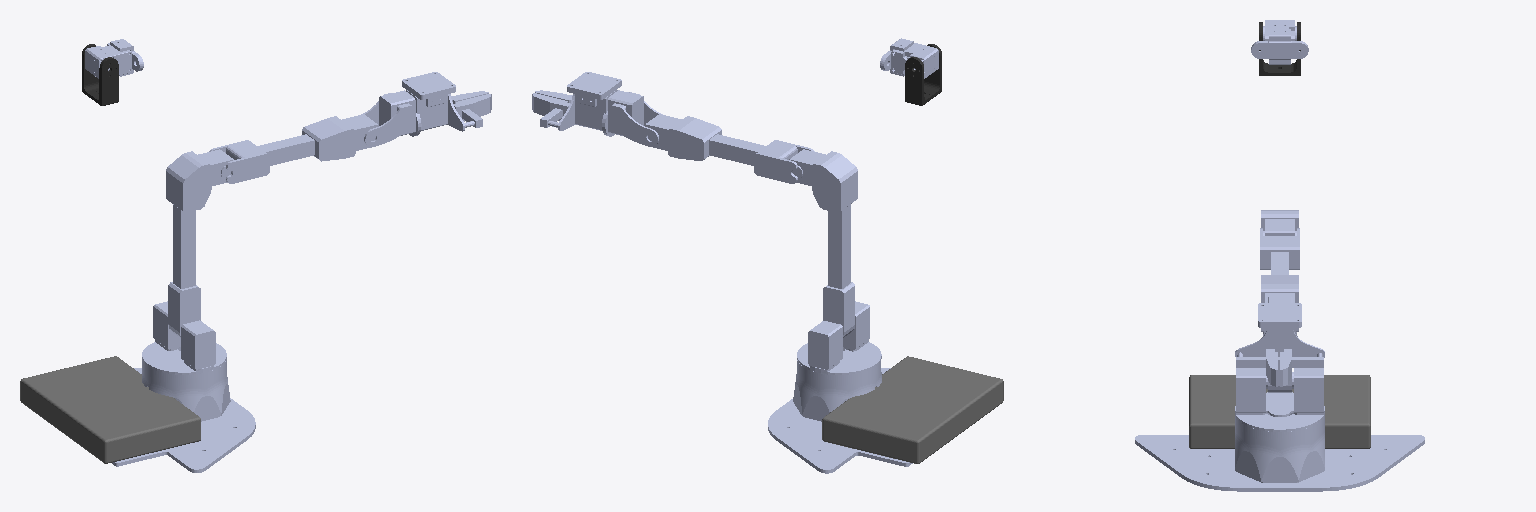
--- Render facts (derived) ---
3 views of the same robot in one strip: view 1: azimuth 30°, elevation 25°; view 2: azimuth 150°, elevation 25°; view 3: azimuth 270°, elevation 25° (orthographic).
Model locobot with 26 links and 25 joints (7 revolute, 2 continuous, 2 prismatic, 14 fixed), rooted at base_footprint, posed every joint at zero.
Links seen in each view (by area): view 1: battery_link, elbow_link, forearm_link, shoulder_link, plate_2, arm_base_link, wrist_link, gripper_link, head_pan_link, head_tilt_link, ar_tag, finger_r; view 2: battery_link, elbow_link, forearm_link, shoulder_link, plate_2, arm_base_link, wrist_link, gripper_link, head_pan_link, head_tilt_link, ar_tag, finger_l; view 3: plate_2, battery_link, shoulder_link, arm_base_link, forearm_link, gripper_link, head_tilt_link, elbow_link, ar_tag, head_pan_link.
Link boxes in pixels (x1,y1,x2,y2): battery_link: [20, 356, 200, 463]; elbow_link: [166, 149, 233, 337]; forearm_link: [209, 114, 378, 183]; shoulder_link: [142, 301, 226, 374]; plate_2: [112, 368, 255, 472]; arm_base_link: [142, 359, 230, 421]; wrist_link: [361, 90, 415, 146]; gripper_link: [406, 90, 482, 136]; head_pan_link: [82, 44, 118, 105]; head_tilt_link: [85, 39, 143, 78]; ar_tag: [402, 72, 455, 106]; finger_r: [453, 94, 491, 121]; battery_link: [822, 356, 1003, 463]; elbow_link: [789, 149, 857, 337]; forearm_link: [644, 114, 814, 183]; shoulder_link: [797, 301, 881, 374]; plate_2: [768, 368, 912, 473]; arm_base_link: [793, 360, 881, 421]; wrist_link: [608, 90, 662, 146]; gripper_link: [540, 90, 617, 136]; head_pan_link: [905, 44, 941, 105]; head_tilt_link: [880, 38, 938, 78]; ar_tag: [567, 72, 621, 106]; finger_l: [532, 93, 569, 120]; plate_2: [1135, 435, 1424, 491]; battery_link: [1189, 375, 1370, 448]; shoulder_link: [1235, 368, 1324, 431]; arm_base_link: [1235, 413, 1324, 482]; forearm_link: [1260, 228, 1299, 302]; gripper_link: [1235, 328, 1324, 367]; head_tilt_link: [1251, 20, 1308, 64]; elbow_link: [1261, 210, 1298, 392]; ar_tag: [1258, 303, 1301, 334]; head_pan_link: [1259, 22, 1300, 75].
Bounding box of the posed robot: 0.594 × 0.33 × 0.5069 m (x, y, z).
13 mesh visuals loaded from 18 distinct referenced files (13 binary STL); not drawn: 3 (reference not matched to a file when rendering), 3 (file found but could not be loaded).

robot.urdf — locobot:
<?xml version="1.0" ?>
<robot name="locobot">
    <!-- Kobuki -->
    <link name="base_footprint"/>
    <!--
       Base link is set at the bottom of the base mould.
       This is done to be compatible with the way base link
       was configured for turtlebot 1. Refer to

       https://github.com/turtlebot/turtlebot/issues/40

       To put the base link at the more oft used wheel
       axis, set the z-distance from the base_footprint
       to 0.352.
      -->
    <joint name="base_joint" type="fixed">
        <origin rpy="0 0 0" xyz="0 0 0.0102"/>
        <parent link="base_footprint"/>
        <child link="base_link"/>
    </joint>
    <link name="base_link">
        <visual>
            <geometry>
                <!-- new mesh -->
                <mesh filename="package://locobot_description/meshes/main_body.dae"/>
            </geometry>
            <origin rpy="0 0 0" xyz="0.001 0 0.05199"/>
        </visual>
        <collision name="base">
            <geometry>
                <cylinder length="0.10938" radius="0.178"/>
            </geometry>
            <origin rpy="0 0 0" xyz="0.0 0 0.05949"/>
        </collision>
        <inertial>
            <!-- COM experimentally determined -->
            <origin xyz="0.01 0 0"/>
            <mass value="2.4"/>
            <!-- 2.4/2.6 kg for small/big battery pack -->
            <!-- Kobuki's inertia tensor is approximated by a cylinder with homogeneous mass distribution
             More details: http://en.wikipedia.org/wiki/List_of_moment_of_inertia_tensors
             m = 2.4 kg; h = 0.09 m; r = 0.175 m
             ixx = 1/12 * m * (3 * r^2 + h^2)
             iyy = 1/12 * m * (3 * r^2 + h^2)
             izz = 1/2 * m * r^2
          -->
            <inertia ixx="0.019995" ixy="0.0" ixz="0.0" iyy="0.019995" iyz="0.0" izz="0.03675"/>
        </inertial>
    </link>
    <joint name="wheel_left_joint" type="continuous">
        <parent link="base_link"/>
        <child link="wheel_left_link"/>
        <origin rpy="-1.57079632679 0 0" xyz="0.00 0.115 0.0250"/>
        <axis xyz="0 0 1"/>
    </joint>
    <link name="wheel_left_link">
        <visual>
            <geometry>
                <mesh filename="package://locobot_description/meshes/wheel.dae"/>
            </geometry>
            <origin rpy="0 0 0" xyz="0 0 0"/>
        </visual>
        <collision>
            <geometry>
                <cylinder length="0.0206" radius="0.0352"/>
            </geometry>
            <origin rpy="0 0 0" xyz="0 0 0"/>
        </collision>
        <inertial>
            <mass value="0.01"/>
            <origin xyz="0 0 0"/>
            <inertia ixx="0.001" ixy="0.0" ixz="0.0" iyy="0.001" iyz="0.0" izz="0.001"/>
        </inertial>
    </link>
    <joint name="wheel_right_joint" type="continuous">
        <parent link="base_link"/>
        <child link="wheel_right_link"/>
        <origin rpy="-1.57079632679 0 0" xyz="0.00 -0.115 0.0250"/>
        <axis xyz="0 0 1"/>
    </joint>
    <link name="wheel_right_link">
        <visual>
            <geometry>
                <mesh filename="package://locobot_description/meshes/wheel.dae"/>
            </geometry>
            <origin rpy="0 0 0" xyz="0 0 0"/>
        </visual>
        <collision>
            <geometry>
                <cylinder length="0.0206" radius="0.0350"/>
            </geometry>
            <origin rpy="0 0 0" xyz="0 0 0"/>
        </collision>
        <inertial>
            <mass value="0.01"/>
            <origin xyz="0 0 0"/>
            <inertia ixx="0.001" ixy="0.0" ixz="0.0" iyy="0.001" iyz="0.0" izz="0.001"/>
        </inertial>
    </link>
    <joint name="caster_front_joint" type="fixed">
        <parent link="base_link"/>
        <child link="caster_front_link"/>
        <origin rpy="-1.57079632679 0 0" xyz="0.115 0.0 0.007"/>
    </joint>
    <link name="caster_front_link">
        <collision>
            <geometry>
                <cylinder length="0.0176" radius="0.017"/>
            </geometry>
            <origin rpy="0 0 0" xyz="0 0 0"/>
        </collision>
        <inertial>
            <mass value="0.01"/>
            <origin xyz="0 0 0"/>
            <inertia ixx="0.001" ixy="0.0" ixz="0.0" iyy="0.001" iyz="0.0" izz="0.001"/>
        </inertial>
    </link>
    <joint name="caster_back_joint" type="fixed">
        <parent link="base_link"/>
        <child link="caster_back_link"/>
        <origin rpy="-1.57079632679 0 0" xyz="-0.135 0.0 0.009"/>
    </joint>
    <link name="caster_back_link">
        <collision>
            <geometry>
                <cylinder length="0.0176" radius="0.017"/>
            </geometry>
            <origin rpy="0 0 0" xyz="0 0 0"/>
        </collision>
        <inertial>
            <mass value="0.01"/>
            <origin xyz="0 0 0"/>
            <inertia ixx="0.001" ixy="0.0" ixz="0.0" iyy="0.001" iyz="0.0" izz="0.001"/>
        </inertial>
    </link>
    <!-- Kobuki's sensors -->
    <joint name="gyro_joint" type="fixed">
        <axis xyz="0 1 0"/>
        <origin rpy="0 0 0" xyz="0.056 0.062 0.0202"/>
        <parent link="base_link"/>
        <child link="gyro_link"/>
    </joint>
    <link name="gyro_link">
        <inertial>
            <mass value="0.001"/>
            <origin rpy="0 0 0" xyz="0 0 0"/>
            <inertia ixx="0.0001" ixy="0" ixz="0" iyy="0.000001" iyz="0" izz="0.0001"/>
        </inertial>
    </link>
    <joint name="cliff_sensor_left_joint" type="fixed">
        <origin rpy="0 1.57079632679 0" xyz="0.08734 0.13601 0.0214"/>
        <parent link="base_link"/>
        <child link="cliff_sensor_left_link"/>
    </joint>
    <link name="cliff_sensor_left_link">
        <inertial>
            <mass value="0.0001"/>
            <origin xyz="0 0 0"/>
            <inertia ixx="0.0001" ixy="0.0" ixz="0.0" iyy="0.0001" iyz="0.0" izz="0.0001"/>
        </inertial>
    </link>
    <joint name="cliff_sensor_right_joint" type="fixed">
        <origin rpy="0 1.57079632679 0" xyz="0.085 -0.13601 0.0214"/>
        <parent link="base_link"/>
        <child link="cliff_sensor_right_link"/>
    </joint>
    <link name="cliff_sensor_right_link">
        <inertial>
            <mass value="0.0001"/>
            <origin xyz="0 0 0"/>
            <inertia ixx="0.0001" ixy="0.0" ixz="0.0" iyy="0.0001" iyz="0.0" izz="0.0001"/>
        </inertial>
    </link>
    <joint name="cliff_sensor_front_joint" type="fixed">
        <origin rpy="0 1.57079632679 0" xyz="0.156 0.00 0.0214"/>
        <parent link="base_link"/>
        <child link="cliff_sensor_front_link"/>
    </joint>
    <link name="cliff_sensor_front_link">
        <inertial>
            <mass value="0.0001"/>
            <origin xyz="0 0 0"/>
            <inertia ixx="0.0001" ixy="0.0" ixz="0.0" iyy="0.0001" iyz="0.0" izz="0.0001"/>
        </inertial>
    </link>
    <!-- plates  -->
    <link name="plate_1">
        <inertial>
            <origin rpy="3.14159265359 0 1.57079632679" xyz="-0.0503576000 -0.0000435988 0.002375"/>
            <!-- <mass value="1"/> -->
            <mass value="0.27854"/>
            <inertia ixx="0.0008919000" ixy="0.0000000000" ixz="0.0000000000" iyy="0.0015520000" iyz="-0.0000000018" izz="0.0024420000"/>
        </inertial>
        <visual>
            <origin rpy="3.14159265359 0 1.57079632679" xyz="-0.0973 0 0.002375"/>
            <geometry>
                <mesh filename="package://locobot_description/meshes/plate_bottom.STL" scale="0.001 0.001 0.001"/>
            </geometry>
            <material name="">
                <color rgba="0.792156862745098 0.819607843137255 0.933333333333333 1"/>
            </material>
        </visual>
        <collision>
            <origin rpy="3.14159265359 0 1.57079632679" xyz="-0.0973 0 0.002375"/>
            <geometry>
                <mesh filename="package://locobot_description/meshes/plate_bottom.STL" scale="0.001 0.001 0.001"/>
            </geometry>
        </collision>
    </link>
    <joint name="plate_1_joint" type="fixed">
        <origin rpy="0 0 0" xyz="0.0973 0 0.0902375"/>
        <parent link="base_link"/>
        <child link="plate_1"/>
        <axis xyz="0 0 0"/>
    </joint>
    <link name="plate_2">
        <inertial>
            <origin rpy="3.14159265359 0 1.57079632679" xyz="-0.0503576000 -0.0000435988 0.002375"/>
            <!-- <mass value="1"/> -->
            <mass value="0.27854"/>
            <inertia ixx="0.0008919000" ixy="0.0000000000" ixz="0.0000000000" iyy="0.0015520000" iyz="-0.0000000018" izz="0.0024420000"/>
        </inertial>
        <visual>
            <origin rpy="3.14159265359 0 1.57079632679" xyz="-0.0973 0 0.002375"/>
            <geometry>
                <mesh filename="package://locobot_description/meshes/plate_top.STL" scale="0.001 0.001 0.001"/>
            </geometry>
            <material name="">
                <color rgba="0.792156862745098 0.819607843137255 0.933333333333333 1"/>
            </material>
        </visual>
        <collision>
            <origin rpy="3.14159265359 0 1.57079632679" xyz="-0.0973 0 0.002375"/>
            <geometry>
                <mesh filename="package://locobot_description/meshes/plate_top.STL" scale="0.001 0.001 0.001"/>
            </geometry>
        </collision>
    </link>
    <joint name="plate_2_joint" type="fixed">
        <origin rpy="0 0 0" xyz="0 0 0.00475"/>
        <parent link="plate_1"/>
        <child link="plate_2"/>
        <axis xyz="0 0 0"/>
    </joint>

    <!-- ********************************** Battery **********************************  -->
    <link name="battery_link">
        <visual>
            <origin rpy="0 0 1.57079632679" xyz="0 -0.02176730 0"/>
            <geometry>
                <mesh filename="package://locobot_description/meshes/battery.STL" scale="0.001 0.001 0.001"/>
            </geometry>
            <material name="">
                <color rgba="0.5 0.5 0.5 1"/>
            </material>
        </visual>
        <collision>
            <origin rpy="0 0 1.57079632679" xyz="0 -0.02176730 0"/>
            <geometry>
                <mesh filename="package://locobot_description/meshes/battery.STL" scale="0.001 0.001 0.001"/>
            </geometry>
        </collision>
        <inertial>
            <origin rpy="0 0 1.57079632679" xyz="-0.0071373100 -0.0000436401 0.0111375000"/>
            <!-- <mass value="1"/> -->
            <mass value="1.194"/>
            <inertia ixx="0.0019080000" ixy="0.0000000000" ixz="0.0000000000" iyy="0.0043120000" iyz="0.0000000000" izz="0.0060170000"/>
        </inertial>
    </link>
    <joint name="battery_link_joint" type="fixed">
        <origin rpy="0 0 0" xyz="-0.09703321 0 0.005375"/>
        <parent link="plate_2"/>
        <child link="battery_link"/>
        <axis xyz="0 0 0"/>
    </joint>
    <!-- ********************************** End Battery **********************************  -->

    <!-- add arm -->
     <link name="arm_base_link">
        <inertial>
            <origin rpy="1.57079632679 0 1.57079632679" xyz="-0.0001350000 -0.0000266286 0.0338755000"/>
            <!-- <mass value="1"/> -->
            <mass value="0.379673" />
            <inertia ixx="0.0004351000" iyy="0.0004452000" izz="0.0005731000" ixy="0.0000000707" ixz="0.0000000266" iyz="-0.0000022881" />
        </inertial>
        <visual>
            <origin rpy="1.57079632679 0 1.57079632679" xyz="-0.095773 0 -0.10565023"/>
            <geometry>
                <mesh filename="package://locobot_description/meshes/mobile_base.STL" scale="0.001 0.001 0.001"/>
            </geometry>
            <material name="">
                <color rgba="0.792156862745098 0.819607843137255 0.933333333333333 1"/>
            </material>
        </visual>
        <collision>
            <origin rpy="1.57079632679 0 1.57079632679" xyz="-0.095773 0 -0.10565023"/>
            <geometry>
                <mesh filename="package://locobot_description/meshes/mobile_base.STL" scale="0.001 0.001 0.001"/>
            </geometry>
        </collision>
    </link>
    <joint name="arm_base_link_joint" type="fixed">
        <origin rpy="0 0 0" xyz="0 0 0.002375"/>
        <parent link="plate_2"/>
        <child link="arm_base_link"/>
        <axis xyz="0 0 0"/>
    </joint>
    <link name="shoulder_link">
        <inertial>
            <origin rpy="0 0 0" xyz="-5.67968980068612E-05 1.09785478984274E-10 0.0228467386735302"/>
            <mass value="0.119861197293521"/>
            <inertia ixx="0.000161288180462291" ixy="7.59806211309873E-14" ixz="-1.45323090659527E-07" iyy="5.49696562437107E-05" iyz="1.81052501311883E-13" izz="0.000150800672543169"/>
        </inertial>
        <visual>
            <origin rpy="0 0 0" xyz="0 0 0"/>
            <geometry>
                <mesh filename="package://locobot_description/meshes/shoulder_link.STL"/>
            </geometry>
            <material name="">
                <color rgba="0.792156862745098 0.819607843137255 0.933333333333333 1"/>
            </material>
        </visual>
        <collision>
            <origin rpy="0 0 0" xyz="0 0 0"/>
            <geometry>
                <mesh filename="package://locobot_description/meshes/shoulder_link.STL"/>
            </geometry>
        </collision>
    </link>
    <joint name="joint_1" type="revolute">
        <origin rpy="0 0 0" xyz="0 0 0.0655"/>
        <parent link="arm_base_link"/>
        <child link="shoulder_link"/>
        <axis xyz="0 0 1"/>
        <limit effort="10" lower="-1.57" upper="1.57" velocity="1"/>
    </joint>
    <link name="elbow_link">
        <inertial>
            <origin rpy="0 0 0" xyz="0.00959755948481227 -2.30930057287648E-10 0.134296795349987"/>
            <mass value="0.212482745791037"/>
            <inertia ixx="0.0011748973771367" ixy="-4.7094567420817E-13" ixz="-0.000132188939134774" iyy="0.00122350302249847" iyz="-5.48932537472287E-12" izz="9.02202689343621E-05"/>
        </inertial>
        <visual>
            <origin rpy="0 0 0" xyz="0 0 0"/>
            <geometry>
                <mesh filename="package://locobot_description/meshes/elbow_link.STL"/>
            </geometry>
            <material name="">
                <color rgba="0.792156862745098 0.819607843137255 0.933333333333333 1"/>
            </material>
        </visual>
        <collision>
            <origin rpy="0 0 0" xyz="0 0 0"/>
            <geometry>
                <mesh filename="package://locobot_description/meshes/elbow_link.STL"/>
            </geometry>
        </collision>
    </link>
    <joint name="joint_2" type="revolute">
        <origin rpy="0 0 0" xyz="0 0 0.04125"/>
        <parent link="shoulder_link"/>
        <child link="elbow_link"/>
        <axis xyz="0 1 0"/>
        <limit effort="10" lower="-1.57" upper="1.57" velocity="1"/>
    </joint>
    <link name="forearm_link">
        <inertial>
            <origin rpy="0 0 0" xyz="0.117829826272582 3.09310973110905E-15 -1.26218883678142E-08"/>
            <mass value="0.18746427435805"/>
            <inertia ixx="3.94142667601686E-05" ixy="-3.65830967659785E-19" ixz="9.25852572167442E-11" iyy="0.000725209569605637" iyz="-1.05290858715495E-18" izz="0.000737165881391993"/>
        </inertial>
        <visual>
            <origin rpy="0 0 0" xyz="0 0 0"/>
            <geometry>
                <mesh filename="package://locobot_description/meshes/forearm_link.STL"/>
            </geometry>
            <material name="">
                <color rgba="0.792156862745098 0.819607843137255 0.933333333333333 1"/>
            </material>
        </visual>
        <collision>
            <origin rpy="0 0 0" xyz="0 0 0"/>
            <geometry>
                <mesh filename="package://locobot_description/meshes/forearm_link.STL"/>
            </geometry>
        </collision>
    </link>
    <joint name="joint_3" type="revolute">
        <origin rpy="0 0 0" xyz="0.05 0 0.2"/>
        <parent link="elbow_link"/>
        <child link="forearm_link"/>
        <axis xyz="0 1 0"/>
        <limit effort="10" lower="-1.57" upper="1.57" velocity="1"/>
    </joint>
    <link name="wrist_link">
        <inertial>
            <origin rpy="0 0 0" xyz="0.0429410028407894 4.98644733821042E-05 0.0114266948023652"/>
            <mass value="0.0605921736680362"/>
            <inertia ixx="1.84998512056284E-05" ixy="-1.03256667343112E-08" ixz="-1.71865409274096E-06" iyy="2.08955068262134E-05" iyz="5.05203399787143E-09" izz="1.97857037442992E-05"/>
        </inertial>
        <visual>
            <origin rpy="0 0 0" xyz="0 0 0"/>
            <geometry>
                <mesh filename="package://locobot_description/meshes/wrist_link.STL"/>
            </geometry>
            <material name="">
                <color rgba="0.792156862745098 0.819607843137255 0.933333333333333 1"/>
            </material>
        </visual>
        <collision>
            <origin rpy="0 0 0" xyz="0 0 0"/>
            <geometry>
                <mesh filename="package://locobot_description/meshes/wrist_link.STL"/>
            </geometry>
        </collision>
    </link>
    <joint name="joint_4" type="revolute">
        <origin rpy="0 0 0" xyz="0.2002 0 0"/>
        <parent link="forearm_link"/>
        <child link="wrist_link"/>
        <axis xyz="0 1 0"/>
        <limit effort="1" lower="-1.57" upper="1.57" velocity="1"/>
    </joint>
    <link name="gripper_link">
        <inertial>
            <origin rpy="0 0 0" xyz="0.0311572802112565 -1.25977280754998E-05 0.0092307003092138"/>
            <mass value="0.0795745052466434"/>
            <inertia ixx="3.27413333929741E-05" ixy="3.7314060486416E-08" ixz="3.97669066588691E-06" iyy="4.47182985231326E-05" iyz="-9.49992756213297E-09" izz="5.02142570756738E-05"/>
        </inertial>
        <visual>
            <origin rpy="0 0 0" xyz="0 0 0"/>
            <geometry>
                <mesh filename="package://locobot_description/meshes/gripper_link.STL"/>
            </geometry>
            <material name="">
                <color rgba="0.792156862745098 0.819607843137255 0.933333333333333 1"/>
            </material>
        </visual>
        <collision>
            <origin rpy="0 0 0" xyz="0 0 0"/>
            <geometry>
                <mesh filename="package://locobot_description/meshes/gripper_link.STL"/>
            </geometry>
        </collision>
    </link>
    <joint name="joint_5" type="revolute">
        <origin rpy="0 0 0" xyz="0.063 0.0001 0"/>
        <parent link="wrist_link"/>
        <child link="gripper_link"/>
        <axis xyz="-1 0 0"/>
        <limit effort="1" lower="-1.57" upper="1.57" velocity="1"/>
    </joint>
    <link name="finger_r">
        <inertial>
            <origin rpy="0 0 0" xyz="0.0100191457715113 -0.00843835347348892 -0.00483280251641866"/>
            <mass value="0.0121931459003602"/>
            <inertia ixx="6.74016278931418E-07" ixy="-2.36459038775023E-07" ixz="3.1480125304693E-09" iyy="3.10966297287339E-06" iyz="1.19271018871704E-10" izz="2.77935600332309E-06"/>
        </inertial>
        <visual>
            <origin rpy="0 0 0" xyz="0 0 0"/>
            <geometry>
                <mesh filename="package://locobot_description/meshes/finger_r.STL"/>
            </geometry>
            <material name="">
                <color rgba="0.792156862745098 0.819607843137255 0.933333333333333 1"/>
            </material>
        </visual>
        <collision>
            <origin rpy="0 0 0" xyz="0 0 0"/>
            <geometry>
                <mesh filename="package://locobot_description/meshes/finger_r.STL"/>
            </geometry>
        </collision>
    </link>
    <joint name="joint_6" type="prismatic">
        <origin rpy="0 0 0" xyz="0.07285 0 0.0050143"/>
        <parent link="gripper_link"/>
        <child link="finger_r"/>
        <axis xyz="0 1 0"/>
        <limit effort="1" lower="-1" upper="0" velocity="1"/>
    </joint>
    <link name="finger_l">
        <inertial>
            <origin rpy="0 0 0" xyz="0.0100191599590265 0.00643833435729511 -0.00483280251641866"/>
            <mass value="0.0121931459003603"/>
            <inertia ixx="6.74017180959932E-07" ixy="2.3646368440071E-07" ixz="3.14801230297432E-09" iyy="3.10966207084492E-06" iyz="-1.19277023229564E-10" izz="2.77935600332313E-06"/>
        </inertial>
        <visual>
            <origin rpy="0 0 0" xyz="0 0 0"/>
            <geometry>
                <mesh filename="package://locobot_description/meshes/finger_l.STL"/>
            </geometry>
            <material name="">
                <color rgba="0.792156862745098 0.819607843137255 0.933333333333333 1"/>
            </material>
        </visual>
        <collision>
            <origin rpy="0 0 0" xyz="0 0 0"/>
            <geometry>
                <mesh filename="package://locobot_description/meshes/finger_l.STL"/>
            </geometry>
        </collision>
    </link>
    <joint name="joint_7" type="prismatic">
        <origin rpy="0 0 0" xyz="0.07285 0 0.0050143"/>
        <parent link="gripper_link"/>
        <child link="finger_l"/>
        <axis xyz="0 1 0"/>
        <limit effort="1" lower="0" upper="1" velocity="1"/>
    </joint>
    <link name="ar_tag">
        <inertial>
            <origin rpy="0 0 0" xyz="-1.59182528269852E-09 1.70641183422241E-09 -0.00509579048106218"/>
            <mass value="0.0202622634619862"/>
            <inertia ixx="4.71058333074219E-06" ixy="3.03778067070489E-12" ixz="6.65421687578365E-13" iyy="4.05773489073818E-06" iyz="1.37033485576347E-13" izz="7.92378853658606E-06"/>
        </inertial>
        <visual>
            <origin rpy="0 0 0" xyz="0 0 0"/>
            <geometry>
                <mesh filename="package://locobot_description/meshes/ar_tag.STL"/>
            </geometry>
            <material name="">
                <color rgba="0.792156862745098 0.819607843137255 0.933333333333333 1"/>
            </material>
        </visual>
        <collision>
            <origin rpy="0 0 0" xyz="0 0 0"/>
            <geometry>
                <mesh filename="package://locobot_description/meshes/ar_tag.STL"/>
            </geometry>
        </collision>
    </link>
    <joint name="ar_tag_joint" type="fixed">
        <origin rpy="0 0 0" xyz="0.0269499999999999 0 0.04315"/>
        <parent link="gripper_link"/>
        <child link="ar_tag"/>
        <axis xyz="0 0 0"/>
    </joint>
    <!-- need to add camera assembly -->
    <link name="cam_mount">
        <inertial>
            <origin rpy="0 0 1.57079632679" xyz="-0.0053535000 -0.0030566200 0.1091990000"/>
            <!-- <mass value="1"/> -->
            <mass value="2.091937"/>
            <inertia ixx="0.0376600000" ixy="-0.0001113000" ixz="-0.0004178000" iyy="0.0440300000" iyz="0.0001531000" izz="0.0116800000"/>
        </inertial>
        <visual>
            <origin rpy="1.57079632679 0 1.57079632679" xyz="0.03751 0 -0.146150"/>
            <geometry>
                <mesh filename="package://locobot_description/meshes/interbotix_cam_mount.STL" scale="0.001 0.001 0.001"/>
            </geometry>
            <material name="">
                <color rgba="0.792156862745098 0.819607843137255 0.933333333333333 1"/>
            </material>
        </visual>
        <collision>
            <origin rpy="1.57079632679 0 1.57079632679" xyz="0.03751 0 -0.146150"/>
            <geometry>
                <mesh filename="package://locobot_description/meshes/interbotix_cam_mount.STL" scale="0.001 0.001 0.001"/>
            </geometry>
        </collision>
    </link>
    <joint name="cam_mount_joint" type="fixed">
        <origin rpy="0 0 0" xyz="-0.03751 0 0.13775"/>
        <parent link="base_link"/>
        <child link="cam_mount"/>
        <axis xyz="0 0 0"/>
    </joint>
    <link name="head_pan_link">
        <inertial>
            <origin rpy="0 0 0" xyz="-1.35308431126191E-16 -2.97071395261028E-17 0.0220876265081744"/>
            <mass value="0.0182769203076134"/>
            <inertia ixx="1.32243845065555E-05" ixy="5.07660179129181E-13" ixz="1.067515220067E-20" iyy="7.13386116649085E-06" iyz="-1.32882457845217E-20" izz="7.83291781352837E-06"/>
        </inertial>
        <visual>
            <origin rpy="0 0 0" xyz="0 0 0"/>
            <geometry>
                <mesh filename="package://locobot_description/meshes/tilt_link.STL"/>
            </geometry>
            <material name="">
                <color rgba="0.250980392156863 0.250980392156863 0.250980392156863 1"/>
            </material>
        </visual>
        <collision>
            <origin rpy="0 0 0" xyz="0 0 0"/>
            <geometry>
                <mesh filename="package://locobot_description/meshes/tilt_link.STL"/>
            </geometry>
        </collision>
    </link>
    <joint name="head_pan_joint" type="revolute">
        <origin rpy="0 0 0" xyz="0.01755 -0.00008 0.3975"/>
        <parent link="cam_mount"/>
        <child link="head_pan_link"/>
        <axis xyz="0 0 1"/>
        <limit effort="1" lower="-1.57" upper="1.57" velocity="1"/>
    </joint>
    <link name="head_tilt_link">
        <inertial>
            <origin rpy="0 0 0" xyz="0.0168744200088311 -0.000442984145897884 -0.00405256422002387"/>
            <mass value="0.0547677687275323"/>
            <inertia ixx="1.07071738005716E-05" ixy="-1.46854788384565E-07" ixz="5.59529059364376E-08" iyy="1.77011620295824E-05" iyz="1.27587154712834E-09" izz="2.01583693170578E-05"/>
        </inertial>
        <visual>
            <origin rpy="0 0 0" xyz="0 0 0"/>
            <geometry>
                <mesh filename="package://locobot_description/meshes/roll_link.STL"/>
            </geometry>
            <material name="">
                <color rgba="0.792156862745098 0.819607843137255 0.933333333333333 1"/>
            </material>
        </visual>
        <collision>
            <origin rpy="0 0 0" xyz="0 0 0"/>
            <geometry>
                <mesh filename="package://locobot_description/meshes/roll_link.STL"/>
            </geometry>
        </collision>
    </link>
    <joint name="head_tilt_joint" type="revolute">
        <origin rpy="0 0 0" xyz="0 0 0.05"/>
        <parent link="head_pan_link"/>
        <child link="head_tilt_link"/>
        <axis xyz="0 1 0"/>
        <limit effort="1" lower="-1.57" upper="1.57" velocity="1"/>
    </joint>
    <link name="camera_link">
        <inertial>
            <origin rpy="0 0 0" xyz="-0.0132722976093535 0.00168171470080143 2.49829664994428E-06"/>
            <mass value="0.0381925651163644"/>
            <inertia ixx="2.4688255642946E-05" ixy="1.60697655569215E-07" ixz="1.2993241737711E-08" iyy="3.66669176935806E-06" iyz="1.30215657011203E-08" izz="2.48602467766615E-05"/>
        </inertial>
        <visual>
            <origin rpy="0 0 0" xyz="0 0 0"/>
            <geometry>
                <mesh filename="package://locobot_description/meshes/camera_link.STL"/>
            </geometry>
            <material name="">
                <color rgba="0.792156862745098 0.819607843137255 0.933333333333333 1"/>
            </material>
        </visual>
        <collision>
            <origin rpy="0 0 0" xyz="0 0 0"/>
            <geometry>
                <mesh filename="package://locobot_description/meshes/camera_link.STL"/>
            </geometry>
        </collision>
    </link>
    <joint name="camera_joint" type="fixed">
        <origin rpy="0 0 0" xyz="0.06705 0 -0.00425"/>
        <parent link="head_tilt_link"/>
        <child link="camera_link"/>
        <axis xyz="0 0 0"/>
    </joint>
    <!-- Gazebo Plugins -->
    <gazebo>
        <plugin filename="libgazebo_ros_control.so" name="gazebo_ros_control">
            <robotNamespace>/</robotNamespace>
            <legacyModeNS>true</legacyModeNS>
        </plugin>
    </gazebo>
    <!-- Camera joints -->
    <transmission name="tran_head_tilt">
        <type>transmission_interface/SimpleTransmission</type>
        <joint name="head_tilt_joint">
            <hardwareInterface>hardware_interface/EffortJointInterface</hardwareInterface>
        </joint>
        <actuator name="head_tilt_motor">
            <mechanicalReduction>1</mechanicalReduction>
        </actuator>
    </transmission>
    <transmission name="tran_head_pan">
        <type>transmission_interface/SimpleTransmission</type>
        <joint name="head_pan_joint">
            <hardwareInterface>hardware_interface/EffortJointInterface</hardwareInterface>
        </joint>
        <actuator name="head_pan_motor">
            <mechanicalReduction>1</mechanicalReduction>
        </actuator>
    </transmission>
    <!-- Arm joints -->
    <transmission name="tran_1">
        <type>transmission_interface/SimpleTransmission</type>
        <joint name="joint_1">
            <hardwareInterface>hardware_interface/EffortJointInterface</hardwareInterface>
        </joint>
        <actuator name="motor_1">
            <mechanicalReduction>1</mechanicalReduction>
        </actuator>
    </transmission>
    <transmission name="tran_2">
        <type>transmission_interface/SimpleTransmission</type>
        <joint name="joint_2">
            <hardwareInterface>hardware_interface/EffortJointInterface</hardwareInterface>
        </joint>
        <actuator name="motor_2">
            <mechanicalReduction>1</mechanicalReduction>
        </actuator>
    </transmission>
    <transmission name="tran_3">
        <type>transmission_interface/SimpleTransmission</type>
        <joint name="joint_3">
            <hardwareInterface>hardware_interface/EffortJointInterface</hardwareInterface>
        </joint>
        <actuator name="motor_3">
            <mechanicalReduction>1</mechanicalReduction>
        </actuator>
    </transmission>
    <transmission name="tran_4">
        <type>transmission_interface/SimpleTransmission</type>
        <joint name="joint_4">
            <hardwareInterface>hardware_interface/EffortJointInterface</hardwareInterface>
        </joint>
        <actuator name="motor_4">
            <mechanicalReduction>1</mechanicalReduction>
        </actuator>
    </transmission>
    <transmission name="tran_5">
        <type>transmission_interface/SimpleTransmission</type>
        <joint name="joint_5">
            <hardwareInterface>hardware_interface/EffortJointInterface</hardwareInterface>
        </joint>
        <actuator name="motor_5">
            <mechanicalReduction>1</mechanicalReduction>
        </actuator>
    </transmission>
    <transmission name="tran_6">
        <type>transmission_interface/SimpleTransmission</type>
        <joint name="joint_6">
            <hardwareInterface>hardware_interface/EffortJointInterface</hardwareInterface>
        </joint>
        <actuator name="motor_6">
            <mechanicalReduction>1</mechanicalReduction>
        </actuator>
    </transmission>
    <transmission name="tran_7">
        <type>transmission_interface/SimpleTransmission</type>
        <joint name="joint_7">
            <hardwareInterface>hardware_interface/EffortJointInterface</hardwareInterface>
        </joint>
        <actuator name="motor_7">
            <mechanicalReduction>1</mechanicalReduction>
        </actuator>
    </transmission>
    <!-- camera -->
    <gazebo reference="camera_link">
        <sensor name="camera_frame_sensor" type="depth">
            <always_on>true</always_on>
            <update_rate>30.0</update_rate>
            <camera>
                <horizontal_fov>0.994837</horizontal_fov>
                <image>
                    <format>R8G8B8</format>
                    <width>640</width>
                    <height>480</height>
                </image>
                <clip>
                    <near>0.01</near>
                    <far>10</far>
                </clip>
            </camera>
            <plugin filename="libgazebo_ros_openni_kinect.so" name="camera_frame_controller">
                <alwaysOn>true</alwaysOn>
                <updateRate>30.0</updateRate>
                <cameraName>camera</cameraName>
                <imageTopicName>color/image_raw</imageTopicName>
                <cameraInfoTopicName>color/camera_info</cameraInfoTopicName>
                <depthImageTopicName>aligned_depth_to_color/image_raw</depthImageTopicName>
                <depthImageCameraInfoTopicName>aligned_depth_to_color/camera_info</depthImageCameraInfoTopicName>
                <pointCloudTopicName>depth_registered/points</pointCloudTopicName>
                <frameName>camera_color_optical_frame</frameName>
                <pointCloudCutoff>10</pointCloudCutoff>
                <distortionK1>0.00000001</distortionK1>
                <distortionK2>0.00000001</distortionK2>
                <distortionK3>0.00000001</distortionK3>
                <distortionT1>0.00000001</distortionT1>
                <distortionT2>0.00000001</distortionT2>
                <CxPrime>0</CxPrime>
                <Cx>0</Cx>
                <Cy>0</Cy>
                <focalLength>0</focalLength>
                <hackBaseline>0</hackBaseline>
            </plugin>
        </sensor>
    </gazebo>
    <!--      <gazebo reference="cam_mount"><self_collide>true</self_collide></gazebo><self_collide>true</self_collide>-->
    <!-- Gazebo plugins for the base of the robot -->
    <!--     <gazebo><plugin name="kobuki_controller" filename="libgazebo_ros_kobuki.so"><publish_tf>1</publish_tf><left_wheel_joint_name>wheel_left_joint</left_wheel_joint_name><right_wheel_joint_name>wheel_right_joint</right_wheel_joint_name><wheel_separation>.230</wheel_separation><wheel_diameter>0.070</wheel_diameter><torque>1.0</torque><velocity_command_timeout>0.6</velocity_command_timeout><cliff_sensor_left_name>cliff_sensor_left</cliff_sensor_left_name><cliff_sensor_center_name>cliff_sensor_front</cliff_sensor_center_name><cliff_sensor_right_name>cliff_sensor_right</cliff_sensor_right_name><cliff_detection_threshold>0.04</cliff_detection_threshold><bumper_name>bumpers</bumper_name><imu_name>imu</imu_name></plugin></gazebo>-->



    <gazebo reference="wheel_left_link">
        <mu1>1.0</mu1>
        <mu2>1.0</mu2>
        <kp>1000000.0</kp>
        <kd>100.0</kd>
        <minDepth>0.001</minDepth>
        <maxVel>1.0</maxVel>
    </gazebo>
    <gazebo reference="wheel_right_link">
        <mu1>1.0</mu1>
        <mu2>1.0</mu2>
        <kp>1000000.0</kp>
        <kd>100.0</kd>
        <minDepth>0.001</minDepth>
        <maxVel>1.0</maxVel>
    </gazebo>
    <gazebo reference="caster_front_link">
        <mu1>0.0</mu1>
        <mu2>0.0</mu2>
        <kp>1000000.0</kp>
        <kd>100.0</kd>
        <minDepth>0.001</minDepth>
        <maxVel>1.0</maxVel>
    </gazebo>
   <gazebo reference="caster_back_link">
        <mu1>0.0</mu1>
        <mu2>0.0</mu2>
        <kp>1000000.0</kp>
        <kd>100.0</kd>
        <minDepth>0.001</minDepth>
        <maxVel>1.0</maxVel>
    </gazebo>


    <gazebo reference="cliff_sensor_left_link">
        <sensor name="cliff_sensor_left" type="ray">
            <always_on>true</always_on>
            <update_rate>50</update_rate>
            <visualize>true</visualize>
            <ray>
                <scan>
                    <horizontal>
                        <samples>50</samples>
                        <resolution>1.0</resolution>
                        <min_angle>-0.0436</min_angle>
                        <!-- -2.5 degree -->
                        <max_angle>0.0436</max_angle>
                        <!-- 2.5 degree -->
                    </horizontal>
                </scan>
                <range>
                    <min>0.01</min>
                    <max>0.15</max>
                    <resolution>1.0</resolution>
                </range>
            </ray>
        </sensor>
    </gazebo>
    <gazebo reference="cliff_sensor_right_link">
        <sensor name="cliff_sensor_right" type="ray">
            <always_on>true</always_on>
            <update_rate>50</update_rate>
            <visualize>true</visualize>
            <ray>
                <scan>
                    <horizontal>
                        <samples>50</samples>
                        <resolution>1.0</resolution>
                        <min_angle>-0.0436</min_angle>
                        <!-- -2.5 degree -->
                        <max_angle>0.0436</max_angle>
                        <!-- 2.5 degree -->
                    </horizontal>
                </scan>
                <range>
                    <min>0.01</min>
                    <max>0.15</max>
                    <resolution>1.0</resolution>
                </range>
            </ray>
        </sensor>
    </gazebo>
    <gazebo reference="cliff_sensor_front_link">
        <sensor name="cliff_sensor_front" type="ray">
            <always_on>true</always_on>
            <update_rate>50</update_rate>
            <visualize>true</visualize>
            <ray>
                <scan>
                    <horizontal>
                        <samples>50</samples>
                        <resolution>1.0</resolution>
                        <min_angle>-0.0436</min_angle>
                        <!-- -2.5 degree -->
                        <max_angle>0.0436</max_angle>
                        <!-- 2.5 degree -->
                    </horizontal>
                </scan>
                <range>
                    <min>0.01</min>
                    <max>0.15</max>
                    <resolution>1.0</resolution>
                </range>
            </ray>
        </sensor>
    </gazebo>

    <gazebo reference="base_link">
        <mu1>0.3</mu1>
        <mu2>0.3</mu2>
        <sensor type="contact" name="bumpers">
          <always_on>1</always_on>
          <update_rate>50.0</update_rate>
          <visualize>true</visualize>
          <contact>
            <collision>base_footprint</collision>
          </contact>
        </sensor>
      </gazebo>


    <gazebo reference="gyro_link">
        <sensor name="imu" type="imu">
            <always_on>true</always_on>
            <update_rate>50</update_rate>
            <visualize>false</visualize>
            <imu>
                <noise>
                    <type>gaussian</type>
                    <rate>
                        <mean>0.0</mean>
                        <stddev>0.00000196</stddev>
                        <!-- 0.25 x 0.25 (deg/s) -->
                        <bias_mean>0.0</bias_mean>
                        <bias_stddev>0.0</bias_stddev>
                    </rate>
                    <accel>
                        <!-- not used in the plugin and real robot, hence using tutorial values -->
                        <mean>0.0</mean>
                        <stddev>1.7e-2</stddev>
                        <bias_mean>0.1</bias_mean>
                        <bias_stddev>0.001</bias_stddev>
                    </accel>
                </noise>
            </imu>
        </sensor>
    </gazebo>

    <gazebo>
        <self_collide>true</self_collide>
    </gazebo>

<!--     <gazebo>
	    <plugin name="kobuki_controller" filename="libgazebo_ros_kobuki.so">
	      <publish_tf>1</publish_tf>
	      <publish_joint_states>0</publish_joint_states>
	      <left_wheel_joint_name>wheel_left_joint</left_wheel_joint_name>
	      <right_wheel_joint_name>wheel_right_joint</right_wheel_joint_name>
	      <wheel_separation>.230</wheel_separation>
	      <wheel_diameter>0.070</wheel_diameter>
	      <torque>1.0</torque>
	      <velocity_command_timeout>0.6</velocity_command_timeout>
	      <cliff_sensor_left_name>cliff_sensor_left</cliff_sensor_left_name>
	      <cliff_sensor_center_name>cliff_sensor_front</cliff_sensor_center_name>
	      <cliff_sensor_right_name>cliff_sensor_right</cliff_sensor_right_name>
	      <cliff_detection_threshold>0.04</cliff_detection_threshold>
	      <bumper_name>bumpers</bumper_name>
	      <robotNamespace>/base</robotNamespace>
        <imu_name>imu</imu_name>
	    </plugin>
	 </gazebo> -->


      <gazebo>
         <plugin filename="libgazebo_ros_diff_drive.so" name="differential_drive_controller">
             <alwaysOn>true</alwaysOn>
             <legacyMode>false</legacyMode>
            <updateRate>40</updateRate>
            <leftJoint>wheel_left_joint</leftJoint>
            <rightJoint>wheel_right_joint</rightJoint>
            <wheelSeparation>0.230</wheelSeparation>
            <wheelDiameter>0.070</wheelDiameter>
            <wheelTorque>1.0</wheelTorque>
            <!--wheelAcceleration>${wheel_accel}</wheelAcceleration-->
            <commandTopic>mobile_base/commands/velocity</commandTopic>
            <odometryTopic>odom</odometryTopic>
            <odometryFrame>odom</odometryFrame>
            <robotBaseFrame>base_footprint</robotBaseFrame>
            <publishWheelJointState>true</publishWheelJointState>
        </plugin>
        <plugin filename="libgazebo_ros_p3d.so" name="p3d_base_controller">
            <alwaysOn>true</alwaysOn>
            <updateRate>100.0</updateRate>
            <bodyName>base_link</bodyName>
            <topicName>base/absolute_position</topicName>
            <gaussianNoise>0</gaussianNoise>
            <frameName>map</frameName>
            <xyzOffsets>0 0 0</xyzOffsets>
            <rpyOffsets>0 0 0</rpyOffsets>
            <!--<interface:position name="p3d_base_position"/>-->
        </plugin>
    </gazebo>
</robot>
